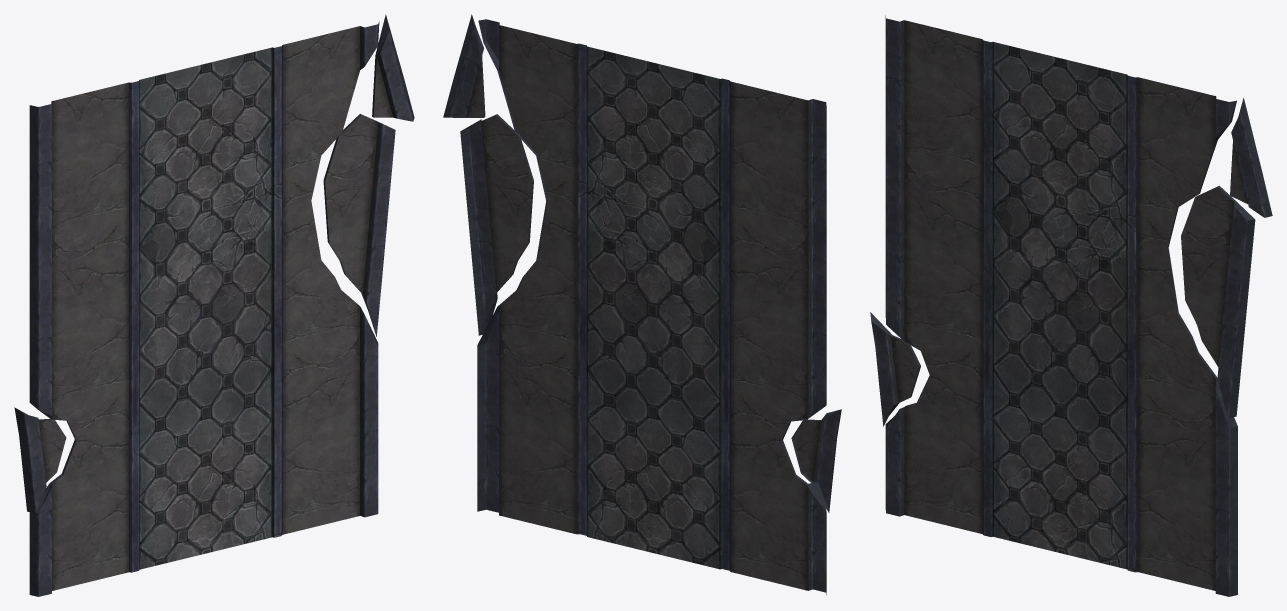
Rendered from shenjie_fuben_02_dimian02.obj.
The picture shows the model from 3 angles, left to right: view 1: azimuth 30°, elevation 25°; view 2: azimuth 150°, elevation 25°; view 3: azimuth 330°, elevation 25°; orthographic projection.
Visible parts, largest first — view 1: shenjie_fuben_02_dimian02; view 2: shenjie_fuben_02_dimian02; view 3: shenjie_fuben_02_dimian02.
Part boxes in pixels (x1,y1,x2,y2): shenjie_fuben_02_dimian02: (14,14,414,596); shenjie_fuben_02_dimian02: (443,14,841,595); shenjie_fuben_02_dimian02: (870,15,1272,596).
Bounding box in the file's own units: 873 × 1034 × 16.39.
2 materials, 2 textured.
